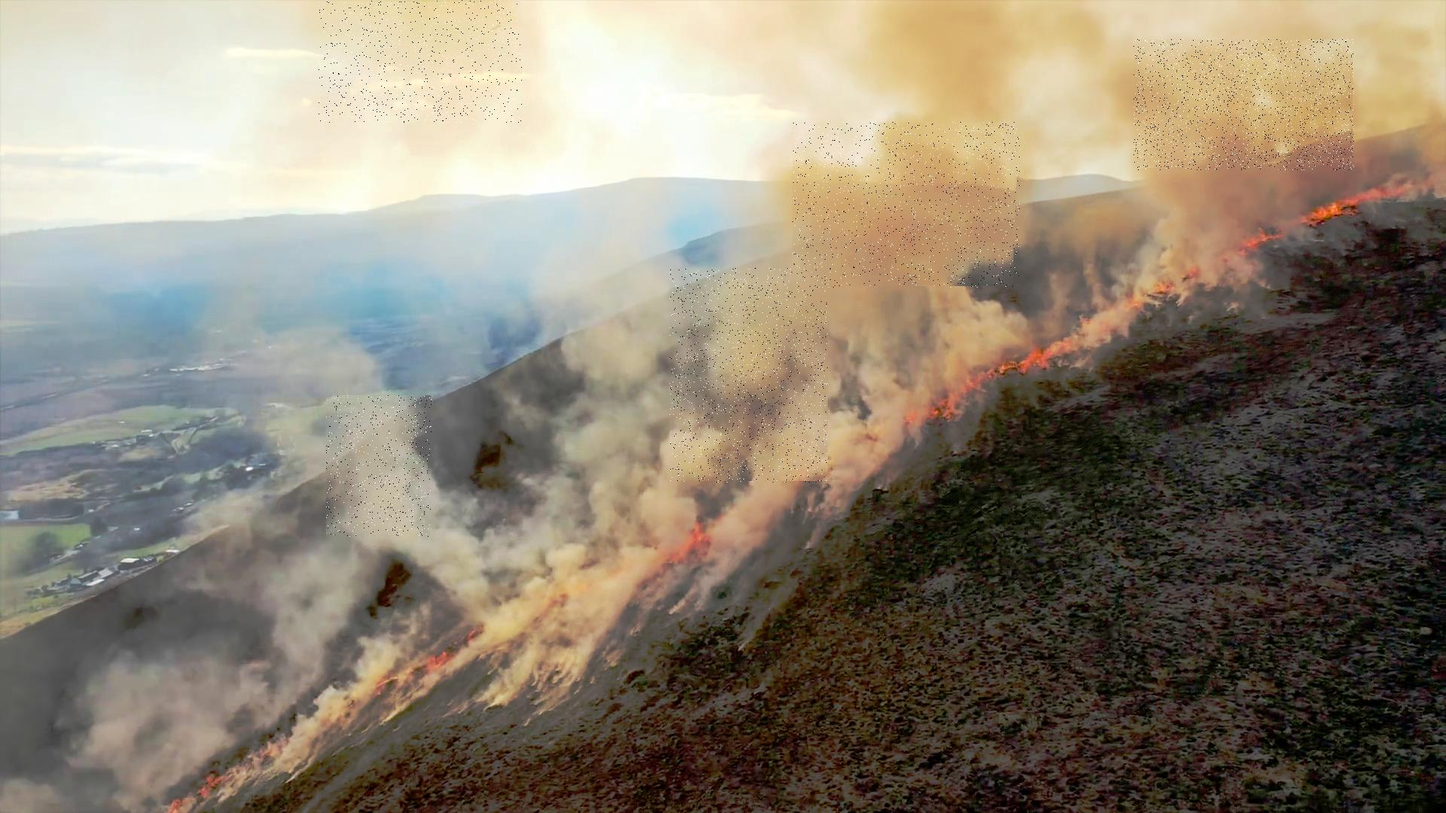smoke: (793, 123, 1020, 288), (670, 268, 828, 483), (1134, 40, 1355, 171), (319, 0, 522, 123), (326, 396, 432, 537)
